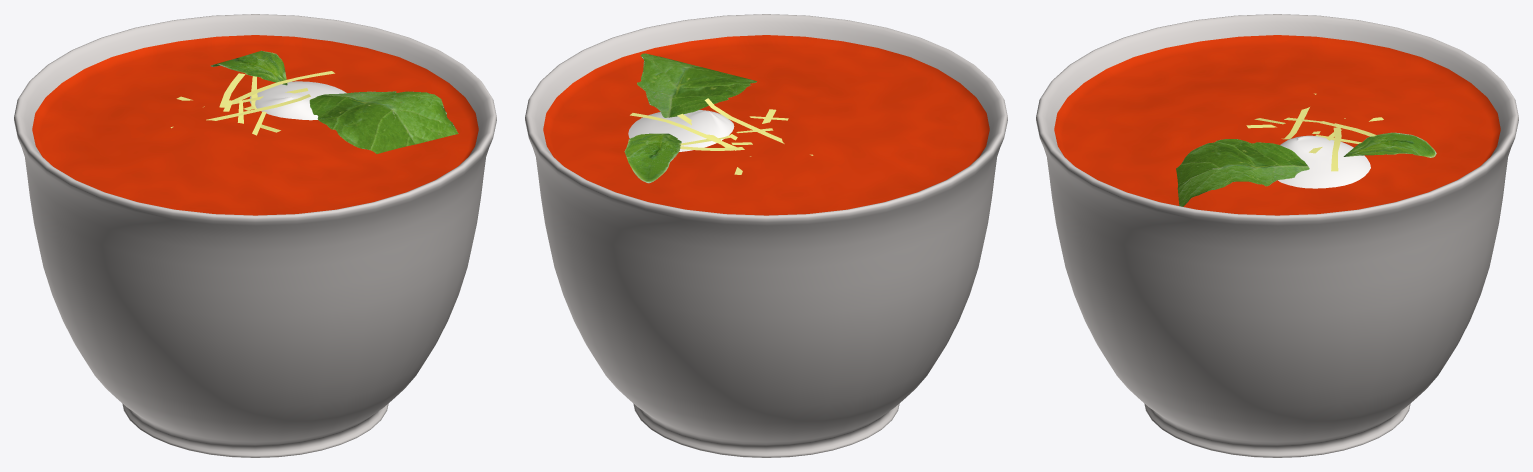
Rendered from Soup2_Reduce.fbx.
3 views of the same model, side by side, from view 1: azimuth 30°, elevation 25°; view 2: azimuth 150°, elevation 25°; view 3: azimuth 270°, elevation 25° (orthographic).
Visible parts, largest first — view 1: archmodels76_012_05, archmodels76_012_01, archmodels76_012_03, archmodels76_012_02, archmodels76_012_04; view 2: archmodels76_012_05, archmodels76_012_01, archmodels76_012_03, archmodels76_012_02, archmodels76_012_04; view 3: archmodels76_012_05, archmodels76_012_01, archmodels76_012_03, archmodels76_012_02, archmodels76_012_04.
Part boxes in pixels (x1,y1,x2,y2): archmodels76_012_05: [14, 14, 496, 457]; archmodels76_012_01: [32, 35, 478, 215]; archmodels76_012_03: [210, 50, 458, 153]; archmodels76_012_02: [249, 81, 346, 120]; archmodels76_012_04: [170, 71, 334, 135]; archmodels76_012_05: [525, 14, 1007, 457]; archmodels76_012_01: [543, 35, 989, 215]; archmodels76_012_03: [624, 53, 756, 183]; archmodels76_012_02: [628, 110, 734, 151]; archmodels76_012_04: [630, 98, 813, 174]; archmodels76_012_05: [1036, 14, 1518, 457]; archmodels76_012_01: [1054, 35, 1500, 215]; archmodels76_012_03: [1176, 132, 1436, 206]; archmodels76_012_02: [1278, 135, 1370, 188]; archmodels76_012_04: [1246, 93, 1383, 171].
Size of the model in its own units: 12.76 by 8.56 by 12.76.
